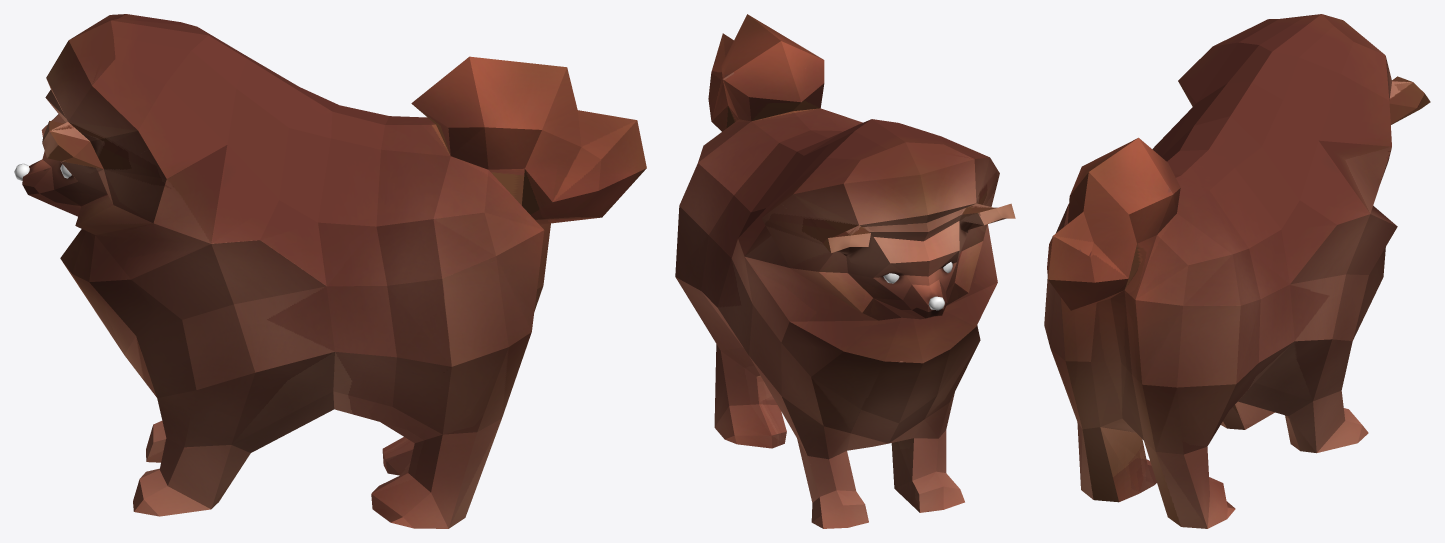
Rendered from Low-poly_hund.glb.
3 views of the same model, side by side, from view 1: azimuth 30°, elevation 25°; view 2: azimuth 150°, elevation 25°; view 3: azimuth 270°, elevation 25° (orthographic). The views are drawn at different scales.
Parts seen in each view (by area): view 1: Doggy; view 2: Doggy; view 3: Doggy.
Boxes of the visible parts, box(x1,y1,x2,y2) form: Doggy: box(22, 14, 646, 528); Doggy: box(675, 14, 1015, 528); Doggy: box(1044, 14, 1430, 528).
Size of the model in its own units: 3.07 by 2.82 by 2.52.
Materials: 2 (1 with a texture image).
